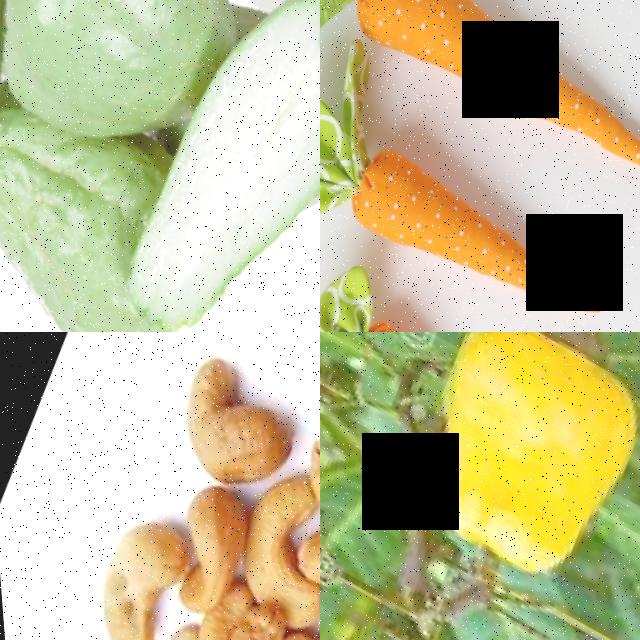cashew: (36, 464, 216, 640), (149, 332, 310, 500), (216, 452, 320, 622), (492, 332, 640, 382), (290, 416, 320, 535), (294, 521, 320, 640)
chayote: (122, 0, 320, 332), (0, 0, 279, 166), (0, 75, 154, 321)
